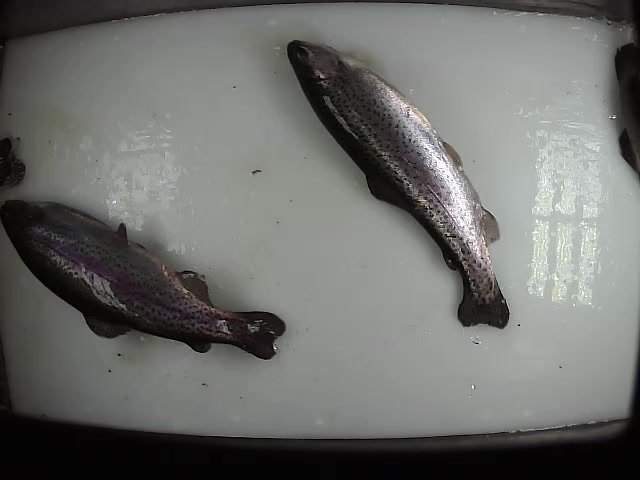fish: (285, 37, 510, 332), (1, 198, 288, 363)
